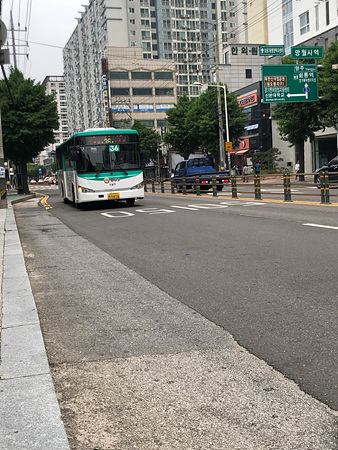bnum: (108, 143, 120, 153)
